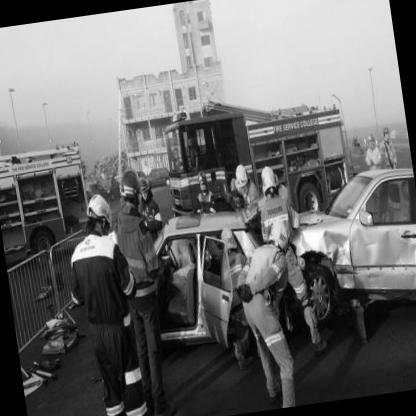car: (278, 161, 416, 326)
truck: (157, 88, 362, 242)
